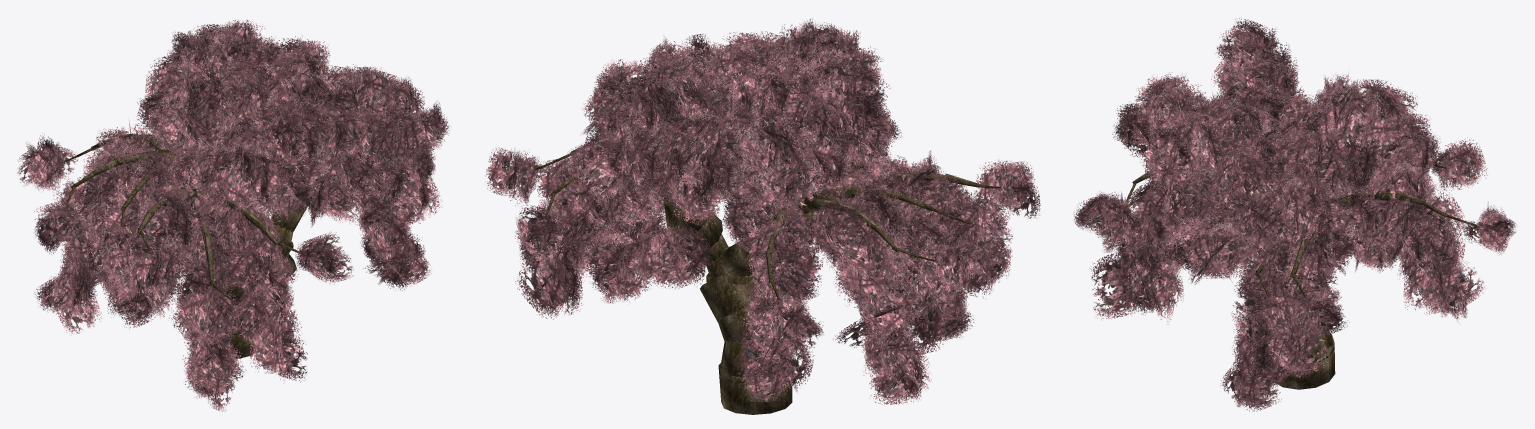
File: blossom_1.glb
The picture shows the model from 3 angles, left to right: view 1: azimuth 30°, elevation 25°; view 2: azimuth 150°, elevation 25°; view 3: azimuth 270°, elevation 25°; orthographic projection. The views are drawn at different scales.
Visible parts, largest first — view 1: blossom; view 2: blossom; view 3: blossom.
Boxes of the visible parts, <box> form: blossom: <box>17,19,449,411</box>; blossom: <box>485,19,1040,414</box>; blossom: <box>1073,18,1515,411</box>.
Bounding box in the file's own units: 24.4 × 17.66 × 22.16.
2 materials, 2 textured.
